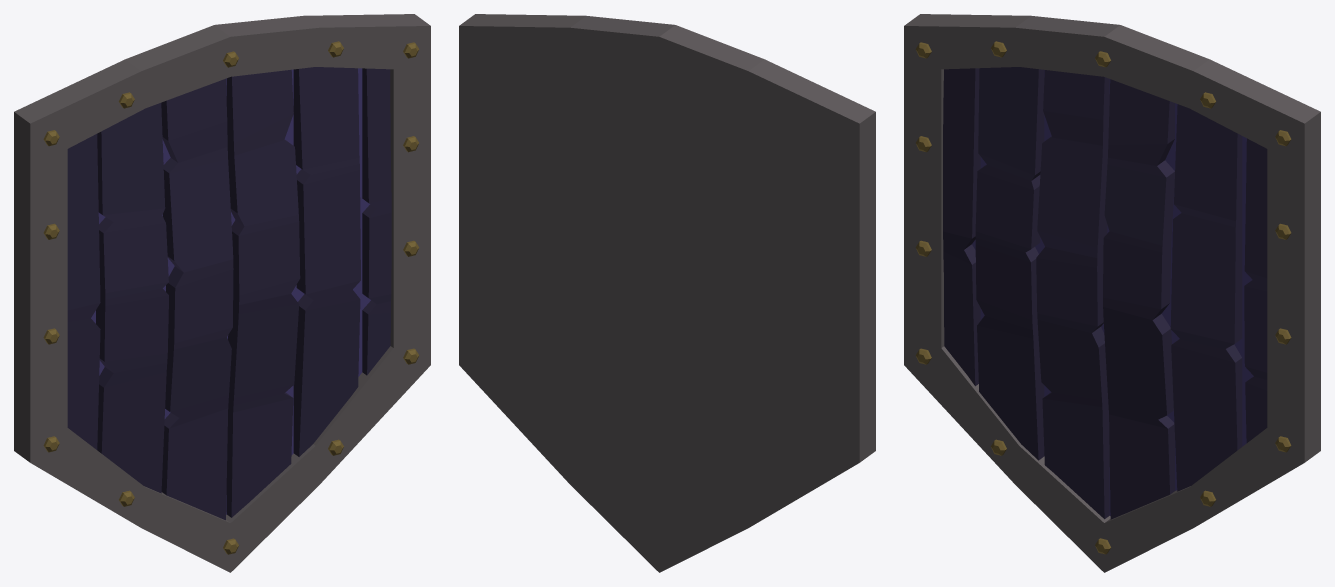
Rendered from wooden-kite-shield.glb.
3 renders of one model, left to right at view 1: azimuth 30°, elevation 25°; view 2: azimuth 150°, elevation 25°; view 3: azimuth 330°, elevation 25°, orthographic.
Parts seen in each view (by area): view 1: Wooden Kite Shield - Quaternius; view 2: Wooden Kite Shield - Quaternius; view 3: Wooden Kite Shield - Quaternius.
Part boxes in pixels (<box>): Wooden Kite Shield - Quaternius: <box>14,14,430,572</box>; Wooden Kite Shield - Quaternius: <box>459,14,875,572</box>; Wooden Kite Shield - Quaternius: <box>904,14,1320,572</box>.
Bounding box in the file's own units: 0.5754 × 0.7358 × 0.0564.
